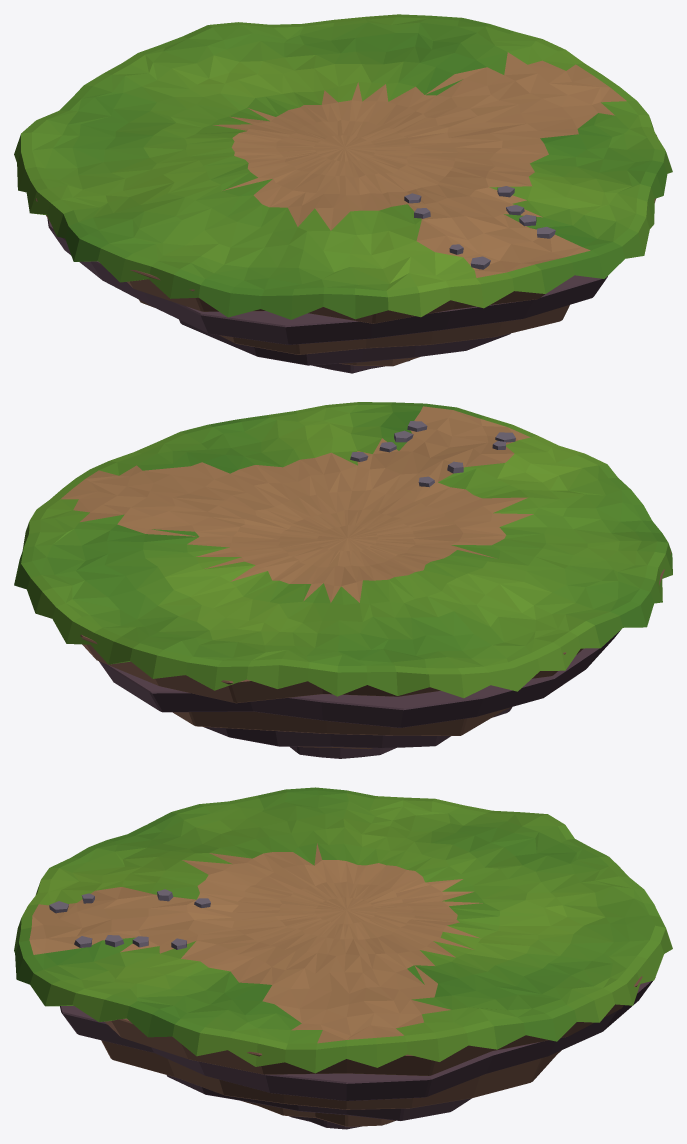
The model's file is island__b.glb.
3 views of the same model, one above another, from view 1: azimuth 30°, elevation 25°; view 2: azimuth 150°, elevation 25°; view 3: azimuth 270°, elevation 25° (orthographic). The views are drawn at different scales.
Visible parts, largest first — view 1: turf, strata_1, strata_2, strata_3, strata_0, edge_stones; view 2: turf, strata_1, strata_2, strata_0, strata_3, edge_stones, strata_5; view 3: turf, strata_1, strata_2, strata_0, strata_3, edge_stones, strata_4.
Boxes of the visible parts, left/top/right/bottom form: turf: left=14, top=14, right=672, bottom=319; strata_1: left=47, top=218, right=607, bottom=344; strata_2: left=139, top=300, right=569, bottom=354; strata_3: left=179, top=319, right=510, bottom=365; strata_0: left=35, top=135, right=656, bottom=323; edge_stones: left=404, top=186, right=555, bottom=269; turf: left=14, top=402, right=672, bottom=698; strata_1: left=99, top=630, right=620, bottom=727; strata_2: left=173, top=707, right=511, bottom=735; strata_0: left=80, top=551, right=670, bottom=703; strata_3: left=204, top=707, right=512, bottom=748; edge_stones: left=350, top=421, right=515, bottom=487; strata_5: left=290, top=746, right=395, bottom=758; turf: left=14, top=787, right=672, bottom=1073; strata_1: left=60, top=977, right=655, bottom=1100; strata_2: left=101, top=1040, right=561, bottom=1109; strata_0: left=105, top=976, right=642, bottom=1075; strata_3: left=166, top=1075, right=471, bottom=1120; edge_stones: left=49, top=889, right=210, bottom=949; strata_4: left=242, top=1101, right=395, bottom=1126.
Size of the model in its own units: 10.02 by 3.71 by 10.35.
